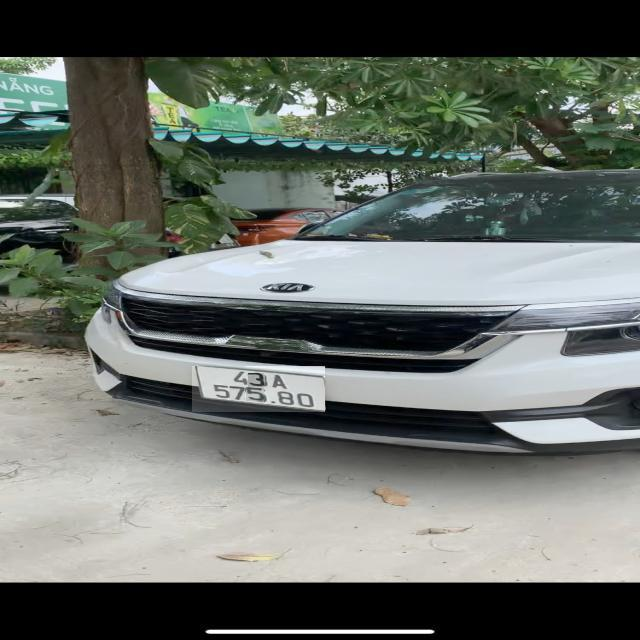car: (90, 159, 637, 463)
plate: (188, 362, 328, 415)
